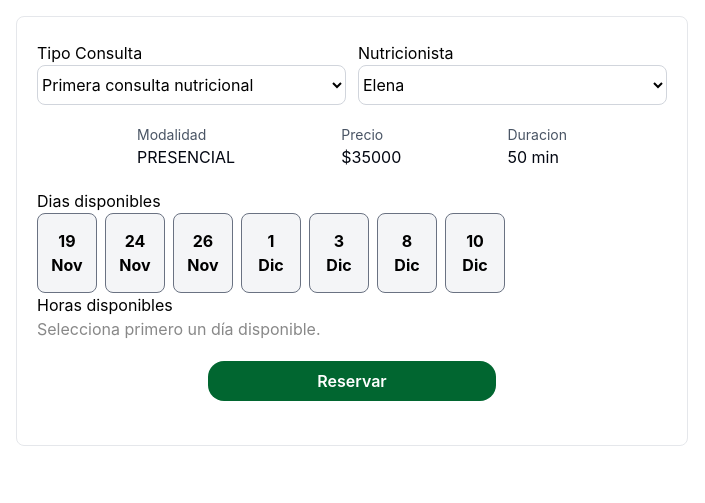
Test: FormularioCrearReserva › completa el flujo de selección de día y envío de reserva
The width and height of the screenshot is (705, 503).
Check: the dropdown labelled "Nutricionista" is shown, box [358,65,667,105]
// Seleccionar el primer día disponible en SelectorDia
What coordinates should you click on to do the following:
click the button "19 Nov"
I would click on:
 (67, 253)
Its box is [37,213,97,293].
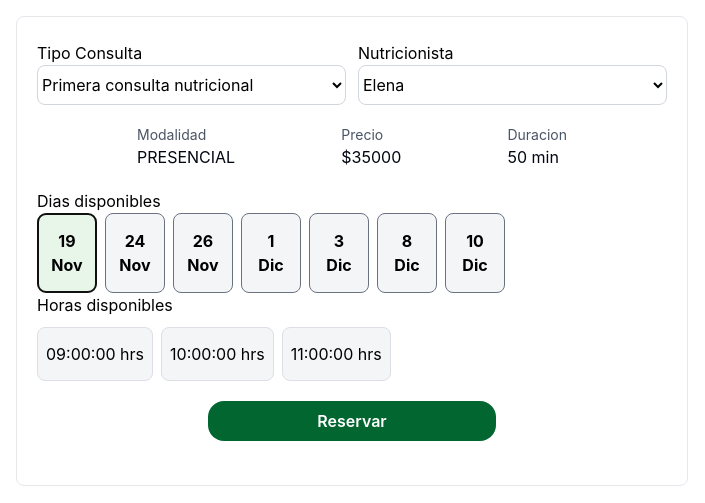
// Esperar a que se carguen las horas disponibles y seleccionar una
What coordinates should you click on to do the following:
click the button "09:00:00 hrs"
I would click on:
 (95, 354)
Its box is [37,327,153,381].
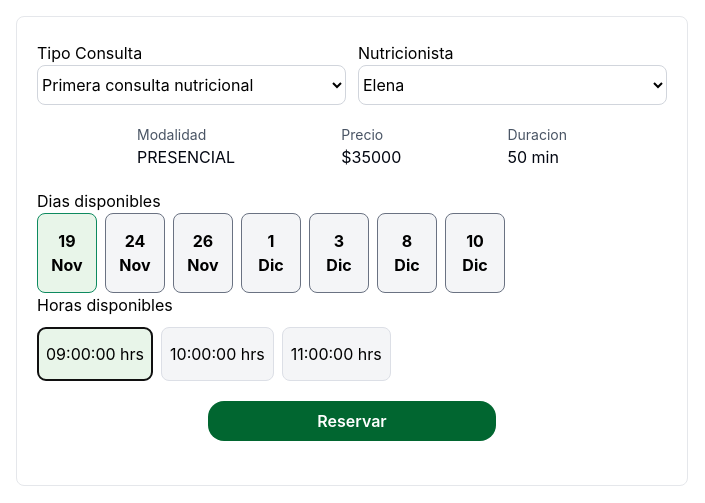
// Hacer clic en Reservar
What coordinates should you click on to do the following:
click the button "Reservar"
I would click on:
 (352, 421)
Its box is [208,401,496,441].
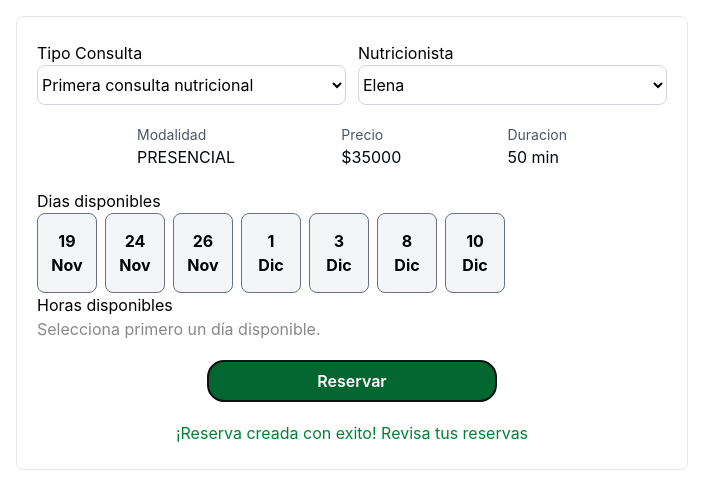
Check: the text "¡Reserva creada con exito! Revisa tus reservas" is shown, box [176,421,528,445]
